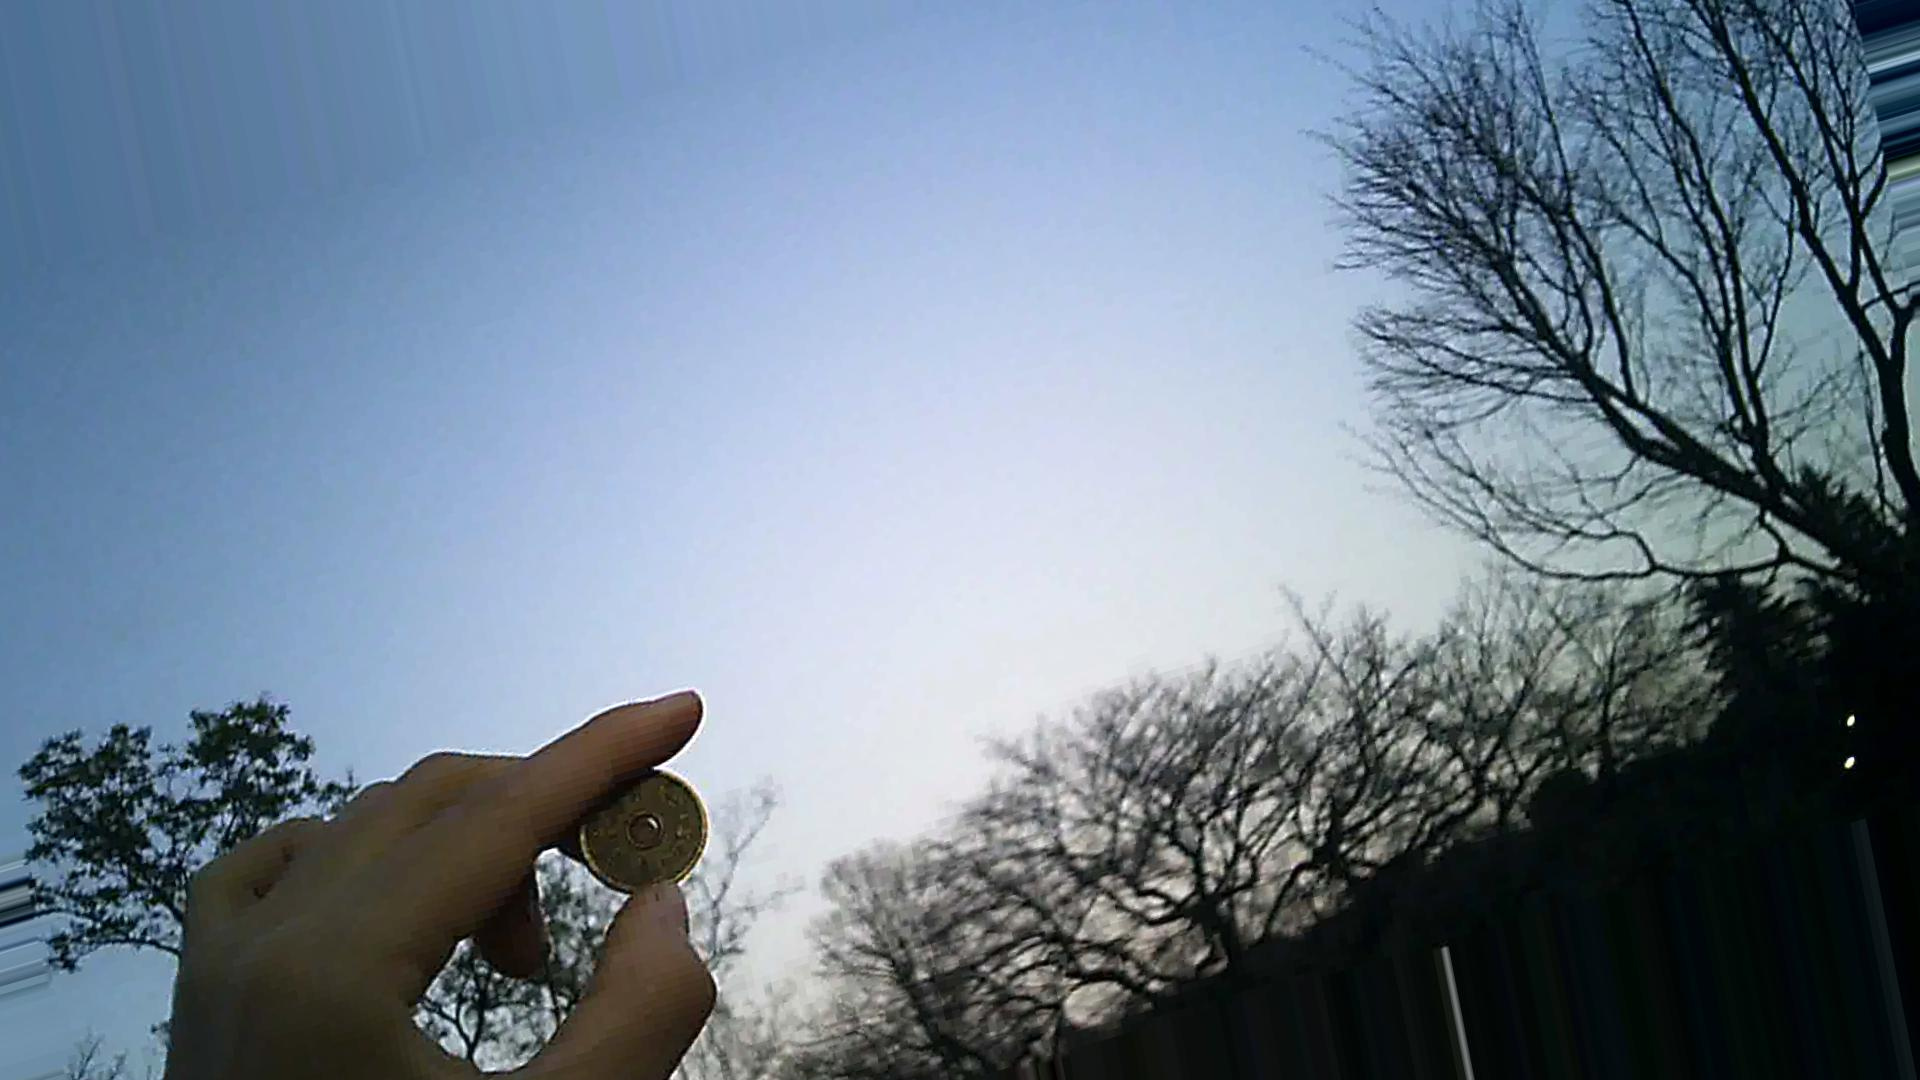5 Yen: (570, 744, 723, 902)
